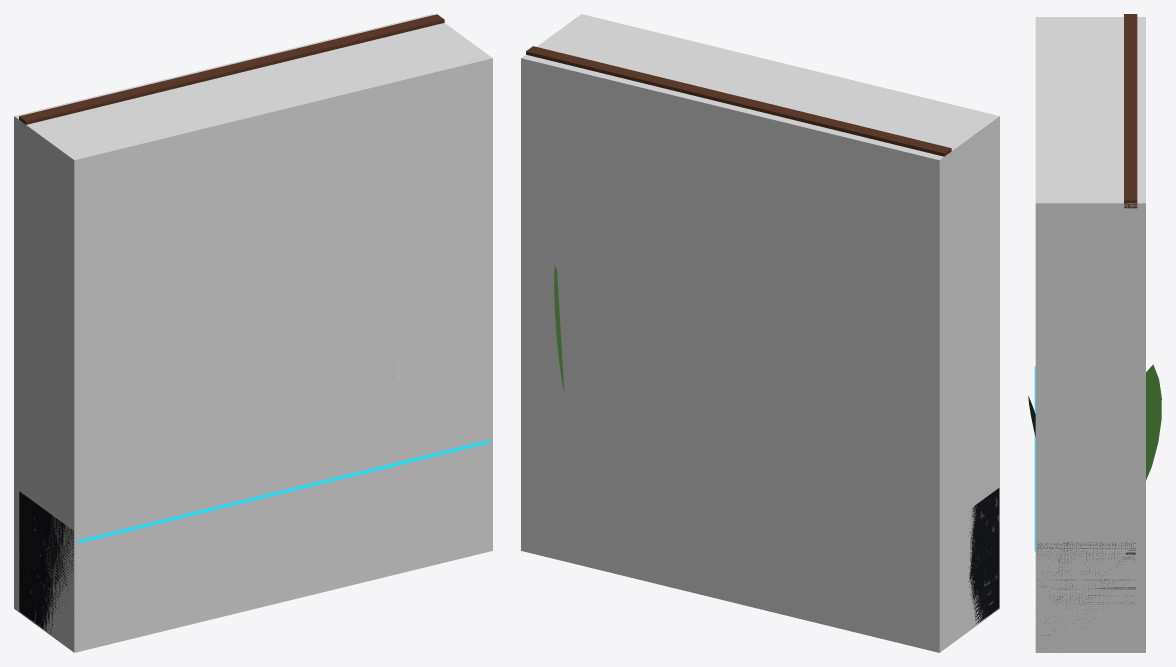
File: Furn_Divider_Planter.001.gltf
The picture shows the model from 3 angles, left to right: view 1: azimuth 30°, elevation 25°; view 2: azimuth 150°, elevation 25°; view 3: azimuth 270°, elevation 25°; orthographic projection. The views are drawn at different scales.
Visible parts, largest first — view 1: Furn_Divider_Planter.001_COL, Furn_Divider_Planter.001; view 2: Furn_Divider_Planter.001_COL, Furn_Divider_Planter.001; view 3: Furn_Divider_Planter.001_COL, Furn_Divider_Planter.001.
Boxes of the visible parts, box(x1,y1,x2,y2) form: Furn_Divider_Planter.001_COL: box(14, 14, 492, 652); Furn_Divider_Planter.001: box(19, 14, 489, 633); Furn_Divider_Planter.001_COL: box(521, 14, 999, 652); Furn_Divider_Planter.001: box(526, 46, 999, 624); Furn_Divider_Planter.001_COL: box(1035, 17, 1145, 652); Furn_Divider_Planter.001: box(1028, 14, 1161, 635).
Size of the model in its own units: 2 by 2.27 by 0.6065.
7 materials, 1 textured.
